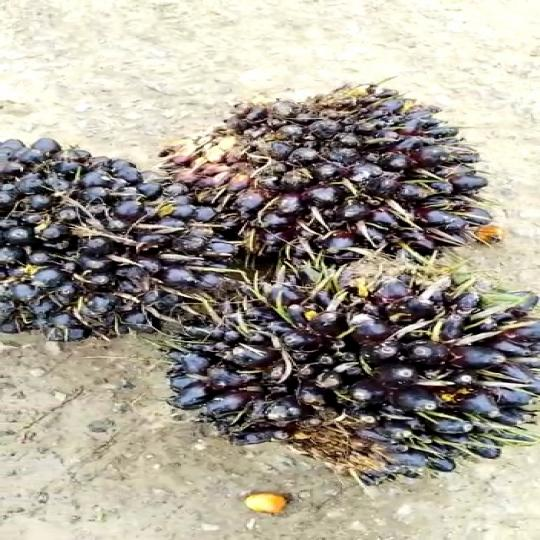mentah: (146, 249, 534, 488), (153, 76, 540, 267), (0, 121, 214, 343)
